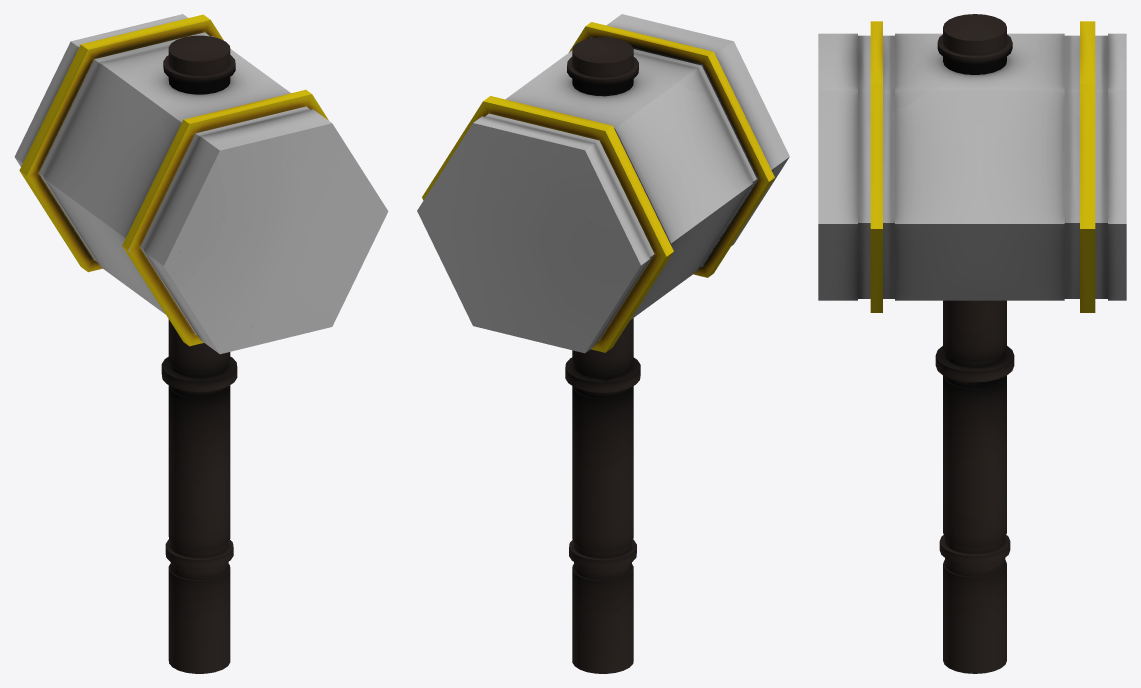
Rendered from hammer.fbx.
The picture shows the model from 3 angles, left to right: view 1: azimuth 30°, elevation 25°; view 2: azimuth 150°, elevation 25°; view 3: azimuth 270°, elevation 25°; orthographic projection. The views are drawn at different scales.
Parts seen in each view (by area): view 1: pCylinder1; view 2: pCylinder1; view 3: pCylinder1.
Boxes of the visible parts, <box> form: pCylinder1: <box>14,14,388,673</box>; pCylinder1: <box>417,14,789,673</box>; pCylinder1: <box>818,14,1126,673</box>.
Bounding box in the file's own units: 2.02 × 4.81 × 2.13.
